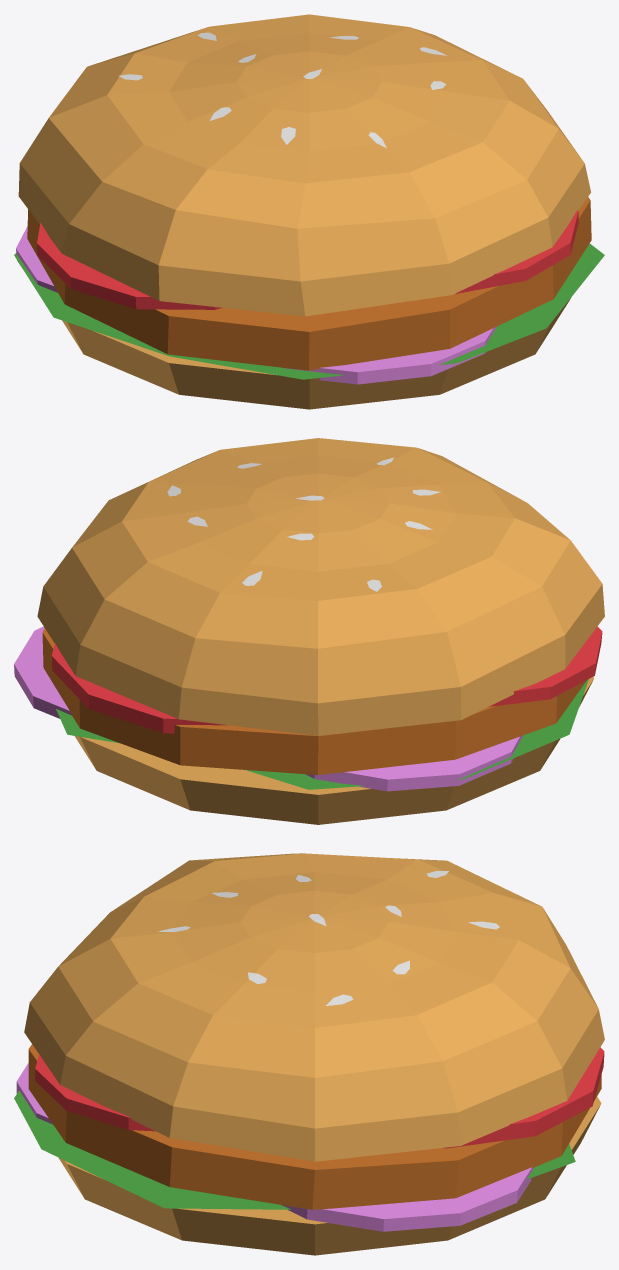
Rendered from Borger.fbx.
The picture shows the model from 3 angles, top to bottom: view 1: azimuth 30°, elevation 25°; view 2: azimuth 150°, elevation 25°; view 3: azimuth 270°, elevation 25°; orthographic projection. The views are drawn at different scales.
Parts seen in each view (by area): view 1: Top, patty, Base, Circle, Onion3, Tomato1, Tomato2, Onion1; view 2: Top, patty, Base, Onion1, Tomato3, Circle, Tomato1, Onion2; view 3: Top, patty, Base, Onion2, Circle, Tomato3, Tomato2, Onion3.
Part boxes in pixels (<box>): Top: <box>18,14,590,316</box>; patty: <box>27,197,591,370</box>; Base: <box>62,297,571,409</box>; Circle: <box>14,243,604,379</box>; Onion3: <box>283,326,496,384</box>; Tomato1: <box>37,222,222,309</box>; Tomato2: <box>455,210,578,293</box>; Onion1: <box>16,226,57,292</box>; Top: <box>37,438,604,735</box>; patty: <box>42,628,586,774</box>; Base: <box>75,677,594,824</box>; Onion1: <box>306,735,523,791</box>; Tomato3: <box>51,643,227,733</box>; Circle: <box>56,679,588,789</box>; Tomato1: <box>489,626,602,706</box>; Onion2: <box>14,626,71,718</box>; Top: <box>24,853,604,1161</box>; patty: <box>28,1044,601,1209</box>; Base: <box>59,1096,601,1255</box>; Onion2: <box>282,1167,533,1231</box>; Circle: <box>14,1090,575,1209</box>; Tomato3: <box>444,1047,604,1148</box>; Tomato2: <box>35,1054,154,1131</box>; Onion3: <box>16,1063,52,1124</box>.
Bounding box in the file's own units: 27.56 × 11.85 × 26.82.
